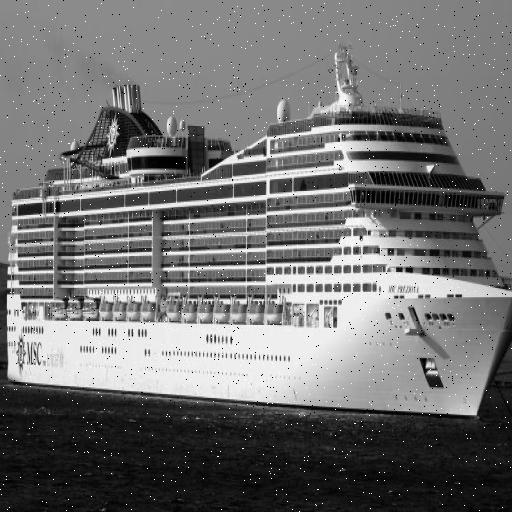cruises: (6, 46, 512, 436)
